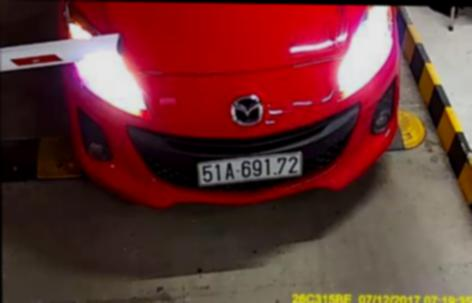License_Plate: (192, 150, 303, 185)
